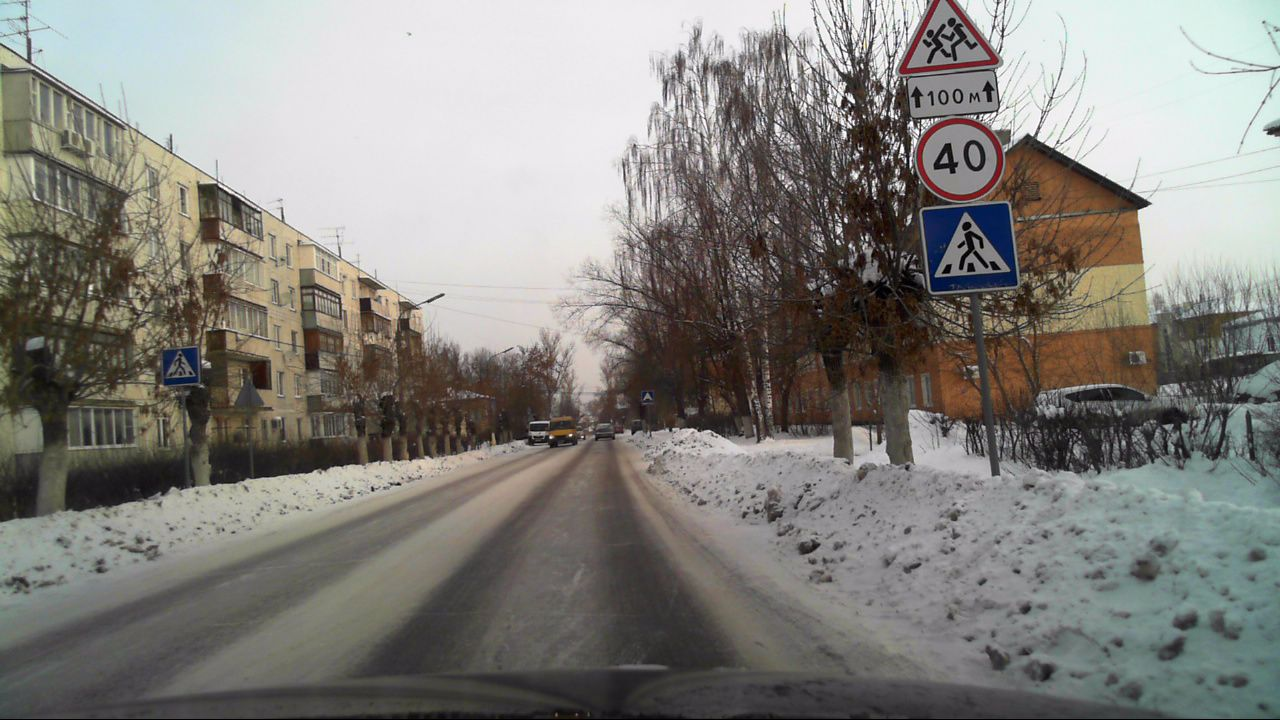speed_warning_40: (915, 116, 1005, 205)
